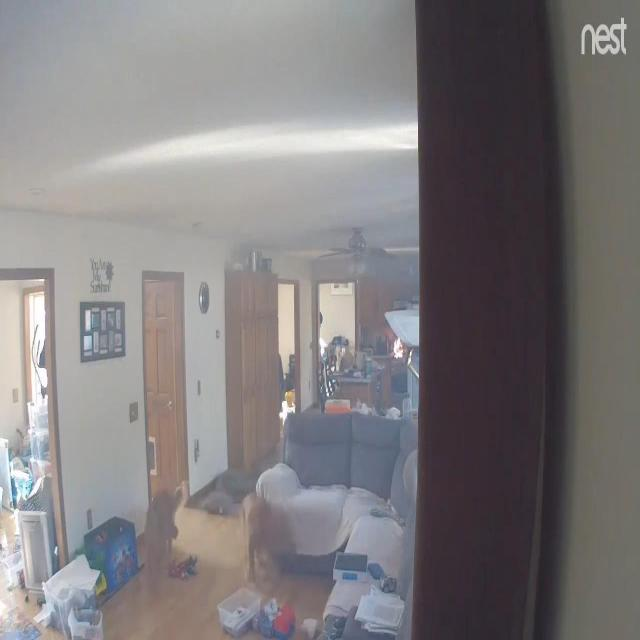fire: (393, 336, 403, 358)
